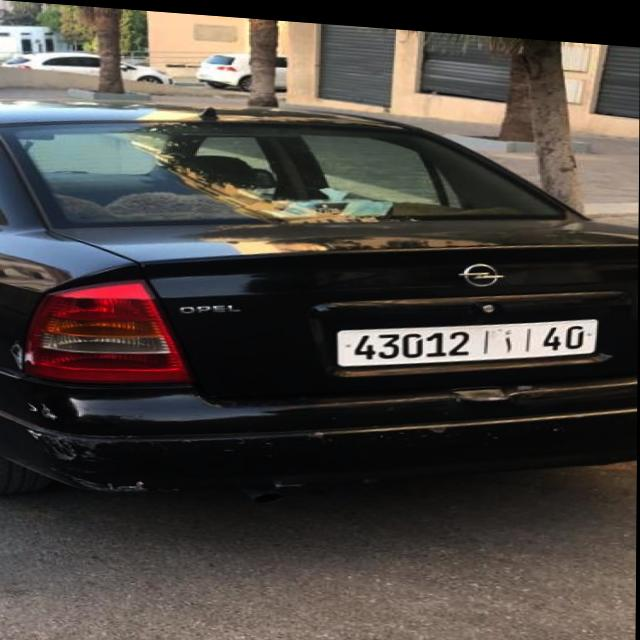License-Plate: (336, 310, 599, 361)
